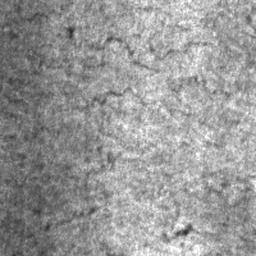Crazing: (32, 87, 148, 232), (65, 26, 244, 73), (167, 74, 253, 107), (3, 122, 73, 142), (160, 223, 222, 244), (3, 91, 56, 114), (14, 0, 48, 23), (26, 233, 38, 248)
